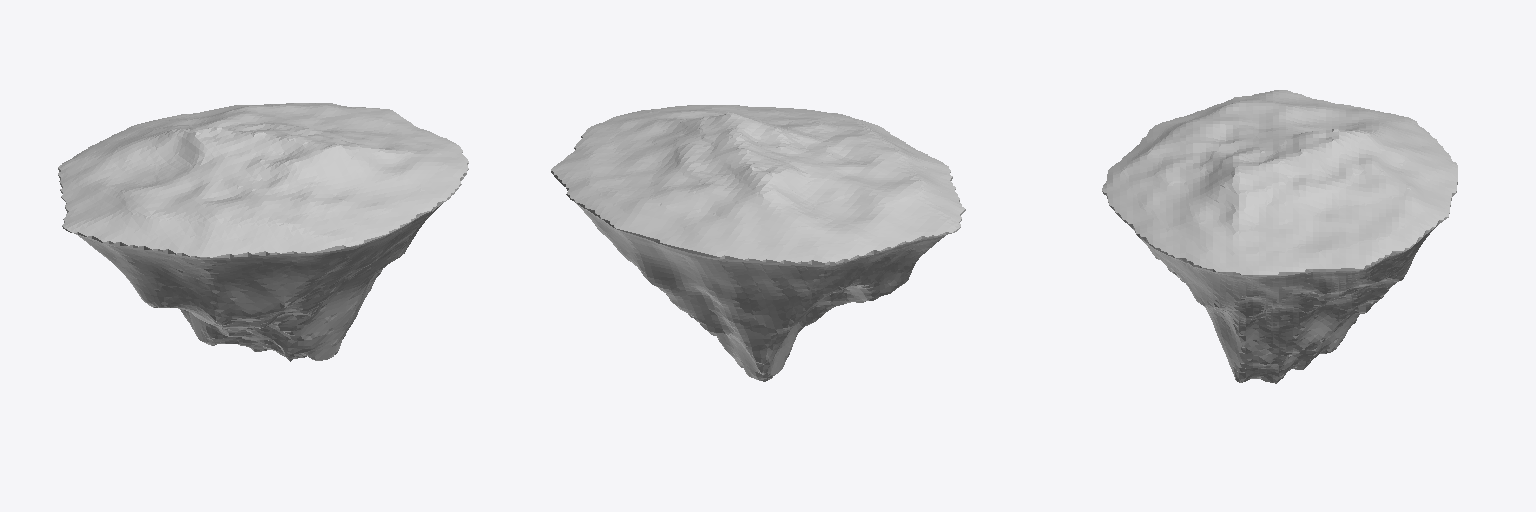
The model's file is island.obj.
The picture shows the model from 3 angles: view 1: azimuth 30°, elevation 25°; view 2: azimuth 150°, elevation 25°; view 3: azimuth 270°, elevation 25°; orthographic projection.
Visible parts, largest first — view 1: Landscape.001; view 2: Landscape.001; view 3: Landscape.001.
Boxes of the visible parts, x1,y1,x2,y2 form: Landscape.001: [58, 103, 468, 361]; Landscape.001: [551, 105, 965, 381]; Landscape.001: [1102, 90, 1457, 383].
Size of the model in its own units: 3.05 by 1.72 by 2.47.